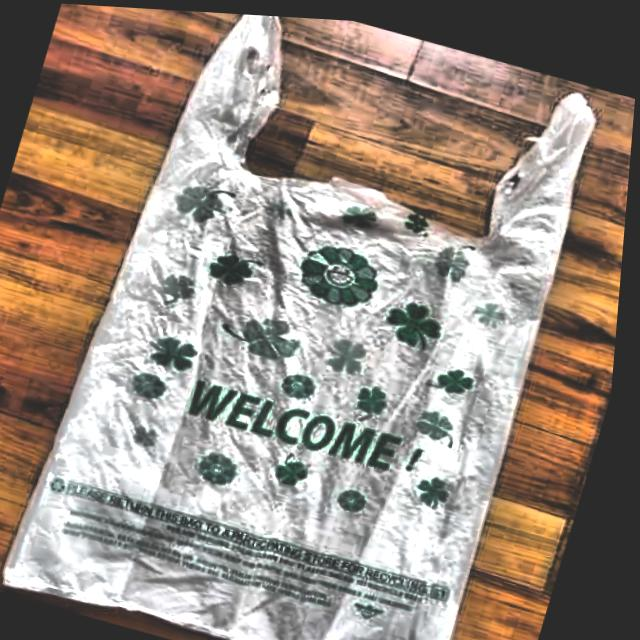Plastic: (8, 2, 640, 640)
